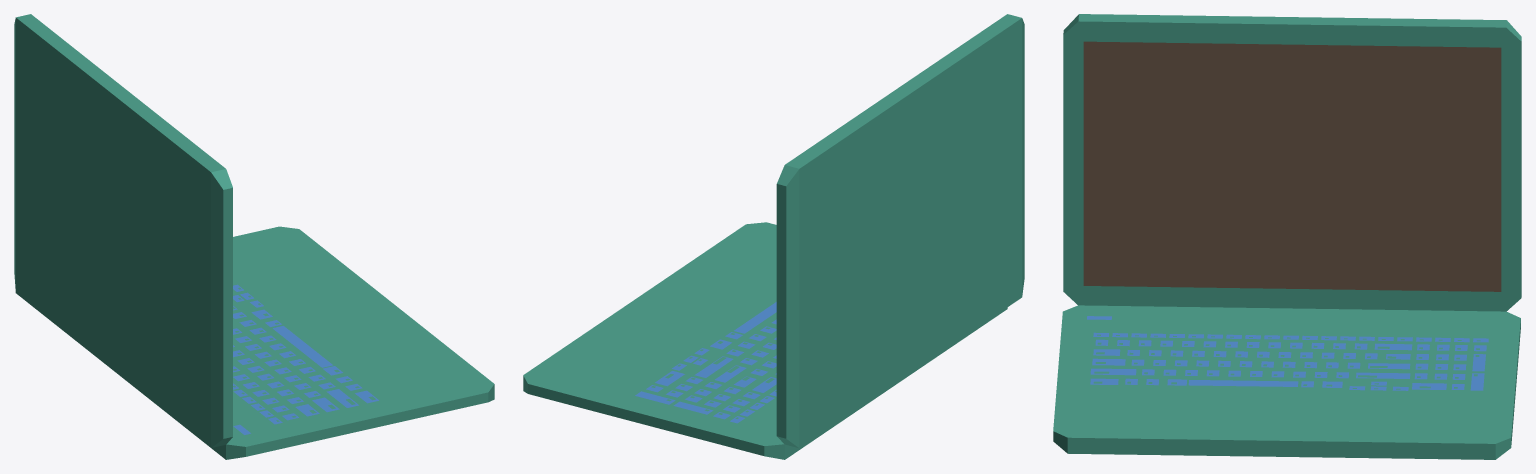
File: Childroom2_Computer.fbx
The picture shows the model from 3 angles, left to right: view 1: azimuth 30°, elevation 25°; view 2: azimuth 150°, elevation 25°; view 3: azimuth 270°, elevation 25°; orthographic projection. The views are drawn at different scales.
Parts seen in each view (by area): view 1: Childroom2_Computer; view 2: Childroom2_Computer; view 3: Childroom2_Computer.
Part boxes in pixels (x1,y1,x2,y2): Childroom2_Computer: [14, 14, 494, 459]; Childroom2_Computer: [523, 14, 1024, 459]; Childroom2_Computer: [1053, 14, 1521, 459].
Size of the model in its own units: 45.57 by 43.66 by 61.81.
